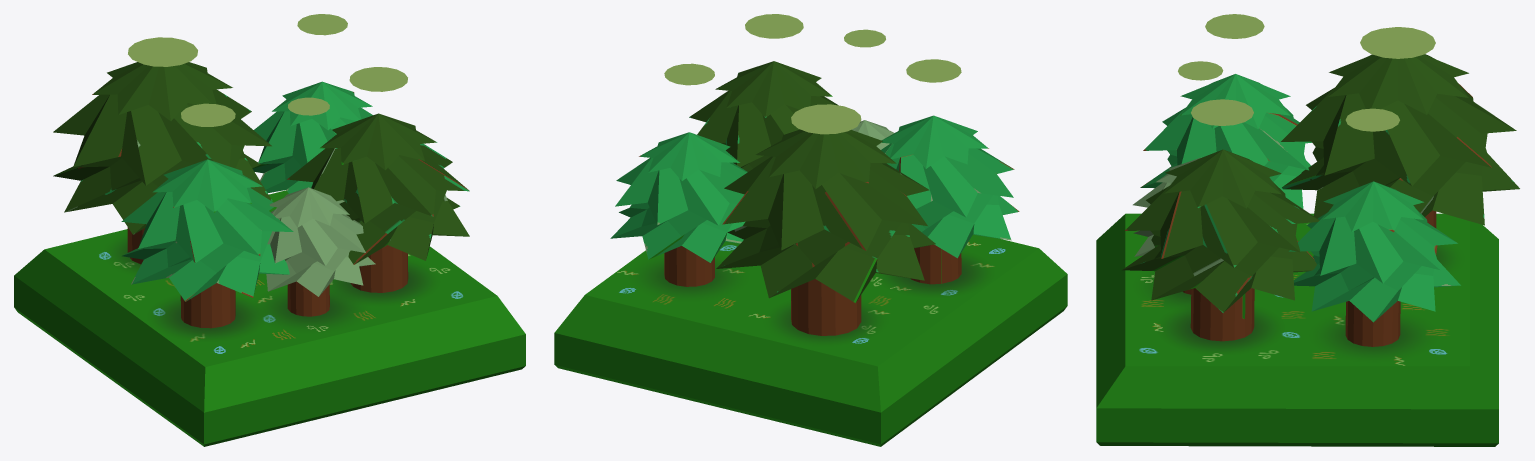
The model's file is trees_srq.glb.
3 views of the same model, side by side, from view 1: azimuth 30°, elevation 25°; view 2: azimuth 150°, elevation 25°; view 3: azimuth 270°, elevation 25° (orthographic). The views are drawn at different scales.
Parts seen in each view (by area): view 1: Cylinder, Cylinder.002; view 2: Cylinder, Cylinder.002; view 3: Cylinder, Cylinder.002.
Boxes of the visible parts, bbox=[...] form: Cylinder: bbox=[14, 62, 525, 446]; Cylinder.002: bbox=[128, 14, 407, 126]; Cylinder: bbox=[554, 61, 1067, 446]; Cylinder.002: bbox=[664, 14, 961, 134]; Cylinder: bbox=[1096, 54, 1519, 446]; Cylinder.002: bbox=[1178, 14, 1435, 131].
Bounding box in the file's own units: 1.02 × 0.7902 × 1.05.
1 material, 1 textured.
